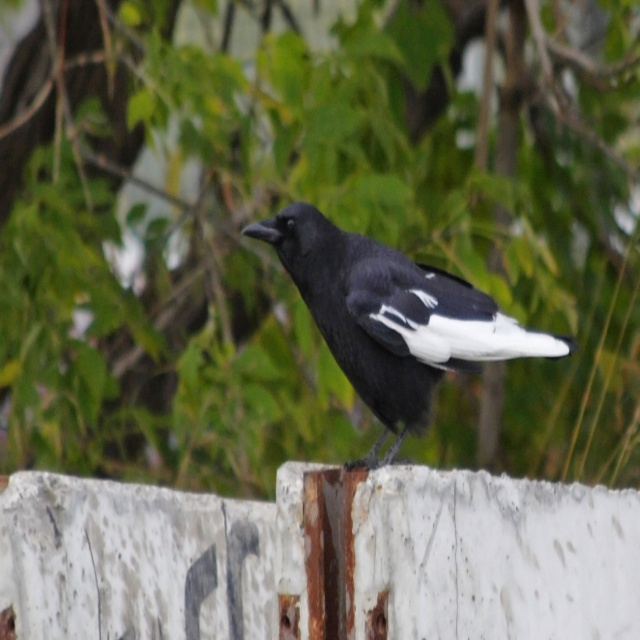Magpie: (237, 182, 571, 459)
